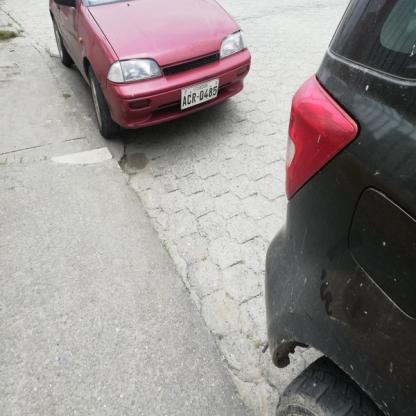Placa: (176, 77, 226, 111)
